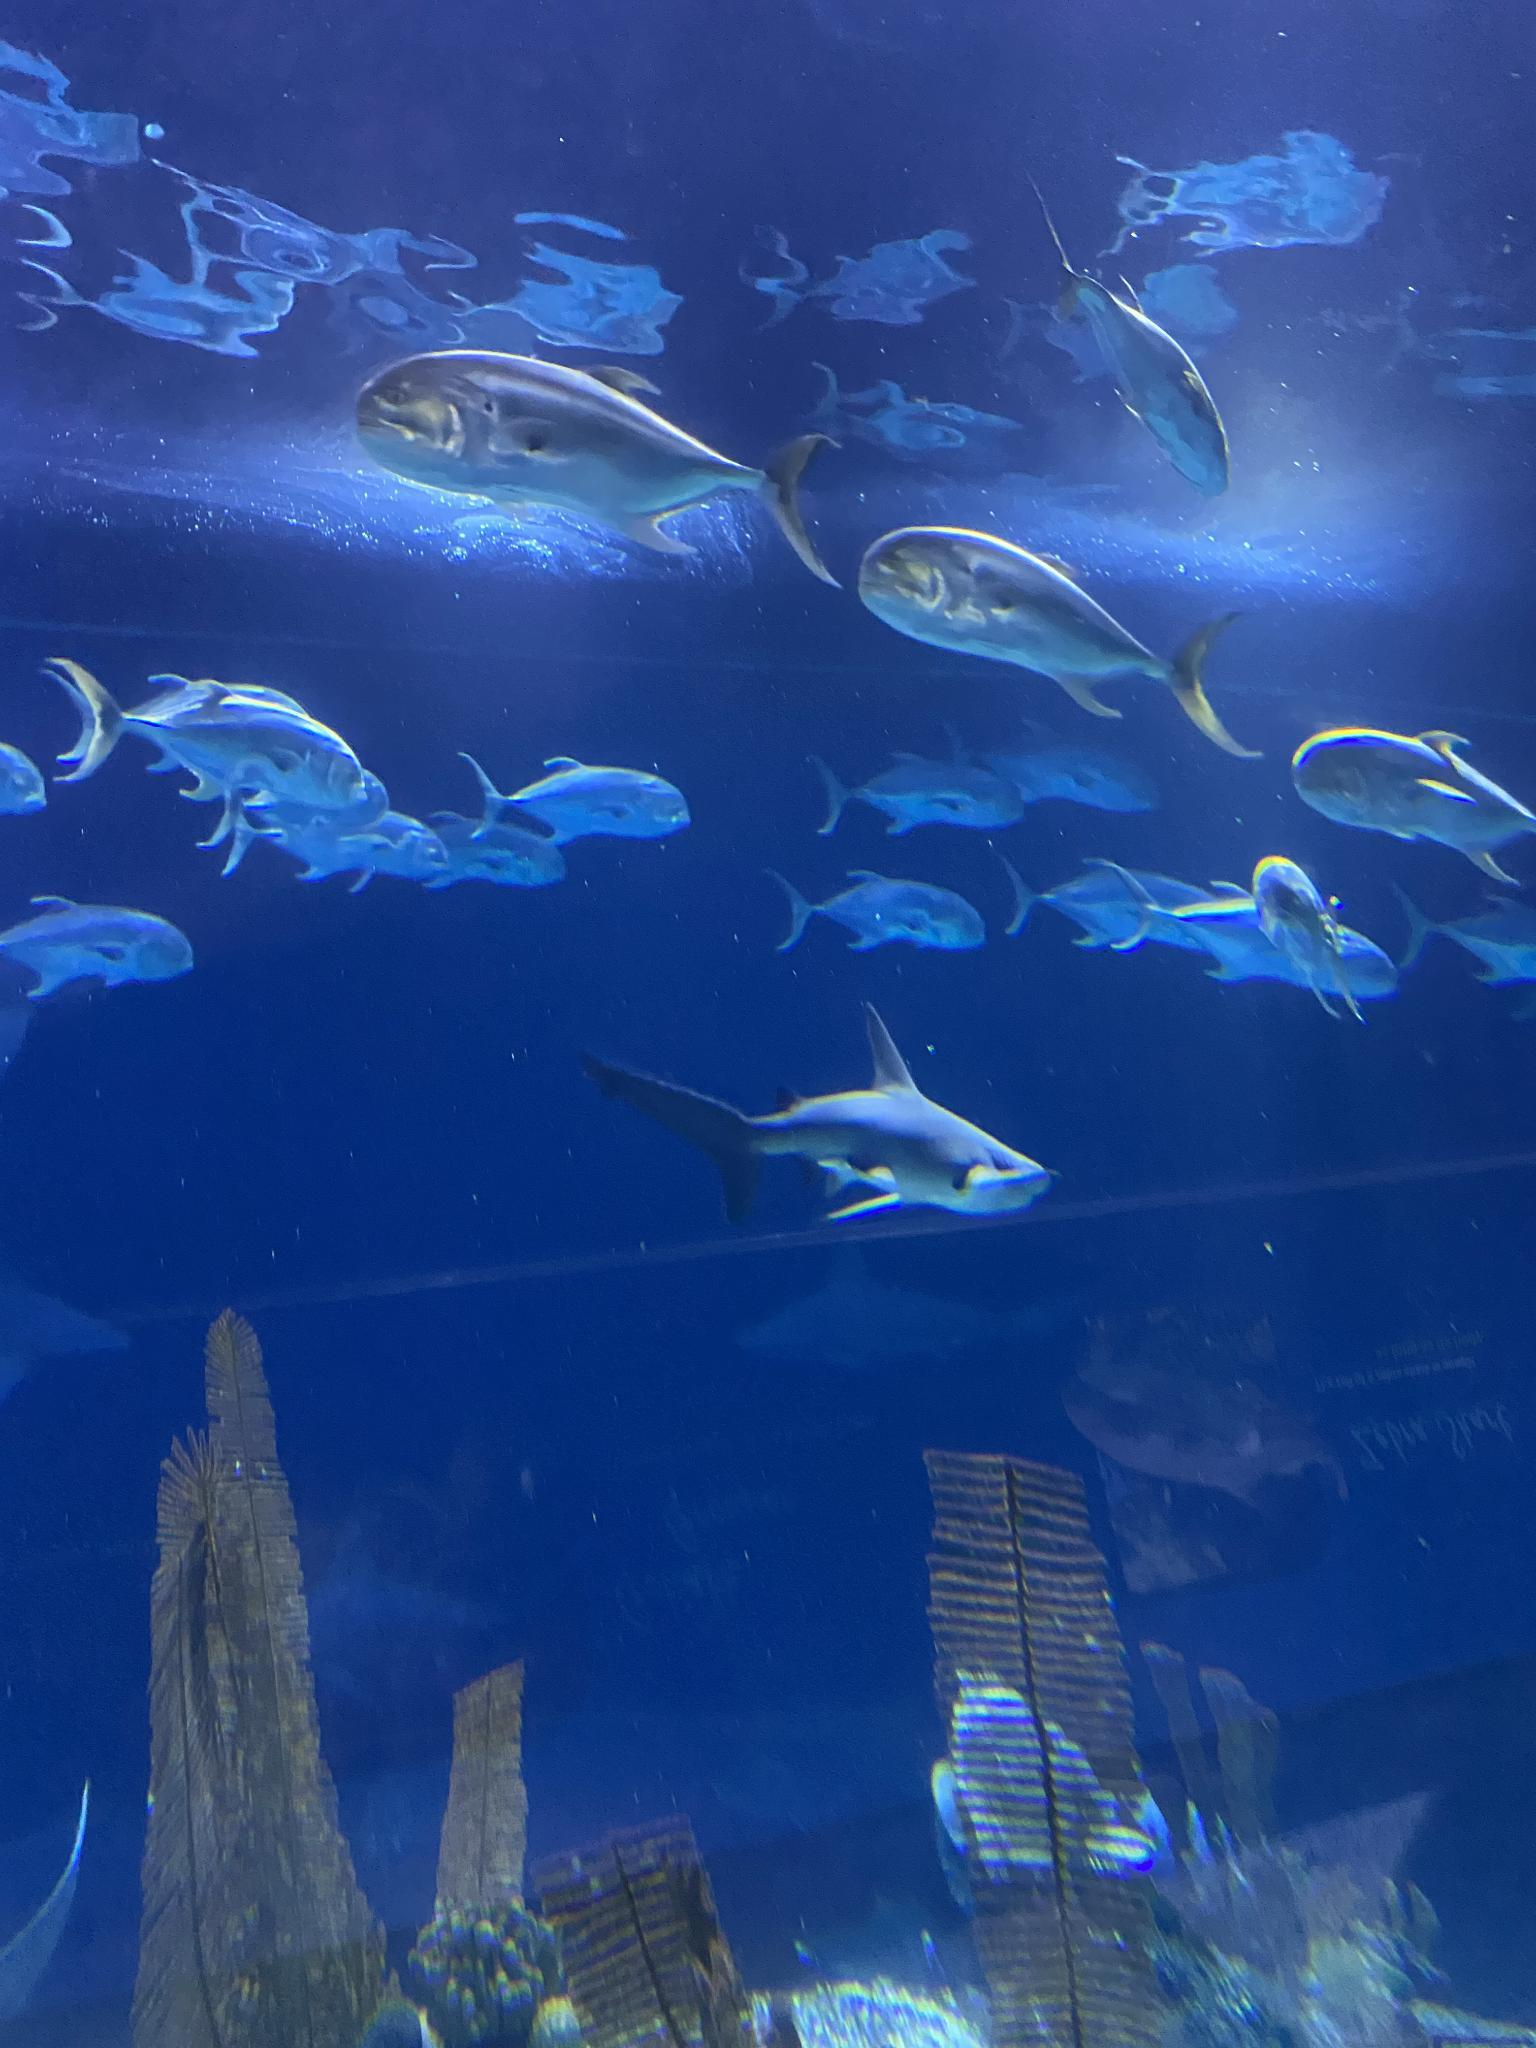fish: (353, 347, 842, 589), (858, 526, 1239, 750), (1025, 161, 1231, 500), (44, 653, 366, 806), (1292, 731, 1536, 882), (458, 750, 692, 840), (200, 806, 445, 890), (0, 893, 194, 998), (1007, 864, 1234, 950), (812, 751, 1028, 840), (770, 872, 984, 956), (1257, 855, 1362, 1021), (1200, 910, 1400, 995), (1391, 882, 1536, 985), (203, 766, 389, 847), (387, 806, 566, 884), (0, 740, 48, 818)
shark: (574, 1006, 1057, 1226), (737, 1235, 1078, 1367)
